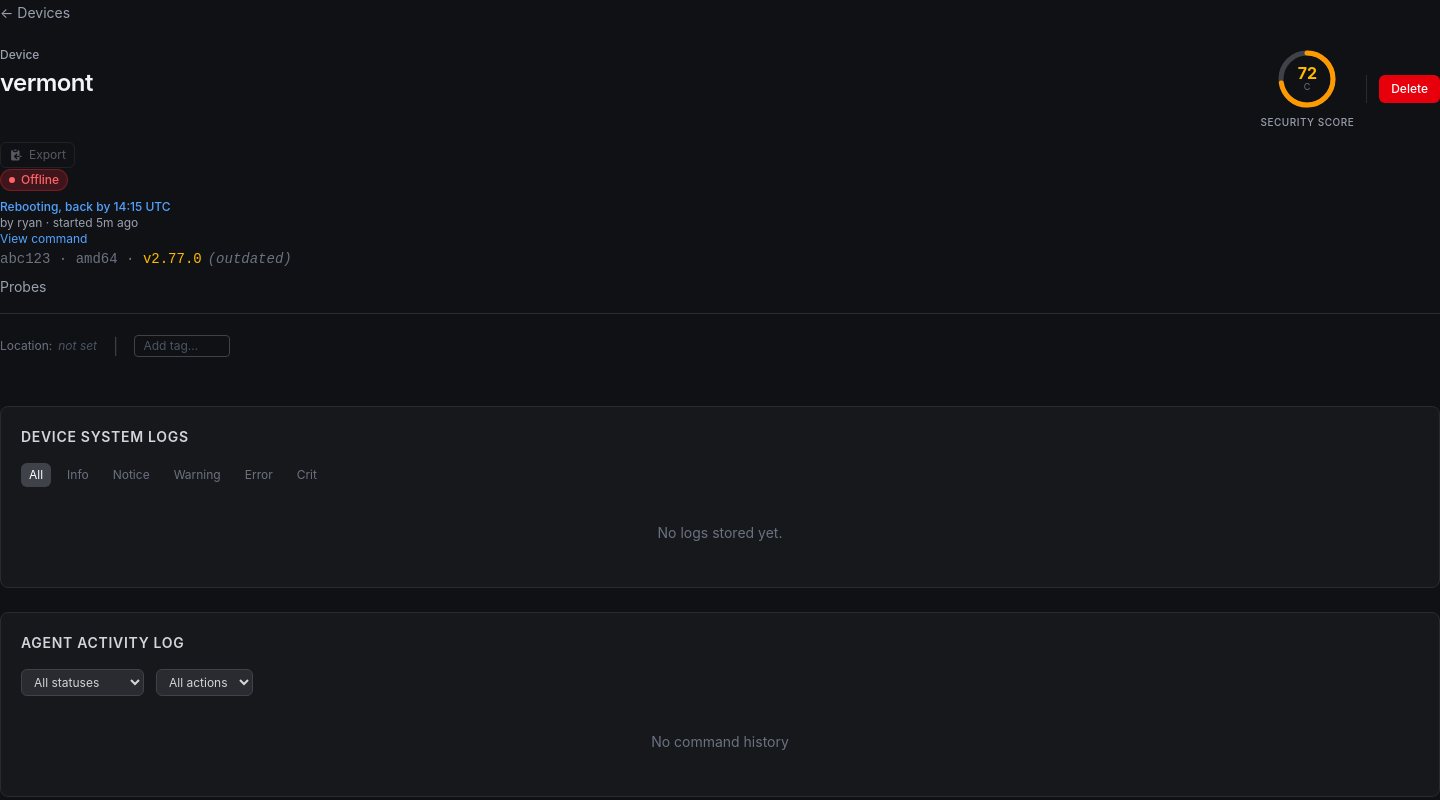
Test: [AC-042] header shows label, actor, start and link › opens the host command in a modal that has no Docker activity link
The image size is (1440, 800).
expect the heading "vermont" is shown: met, box [0,68,93,97]
Click the button "View command" at (44, 239), box [0,231,87,247]
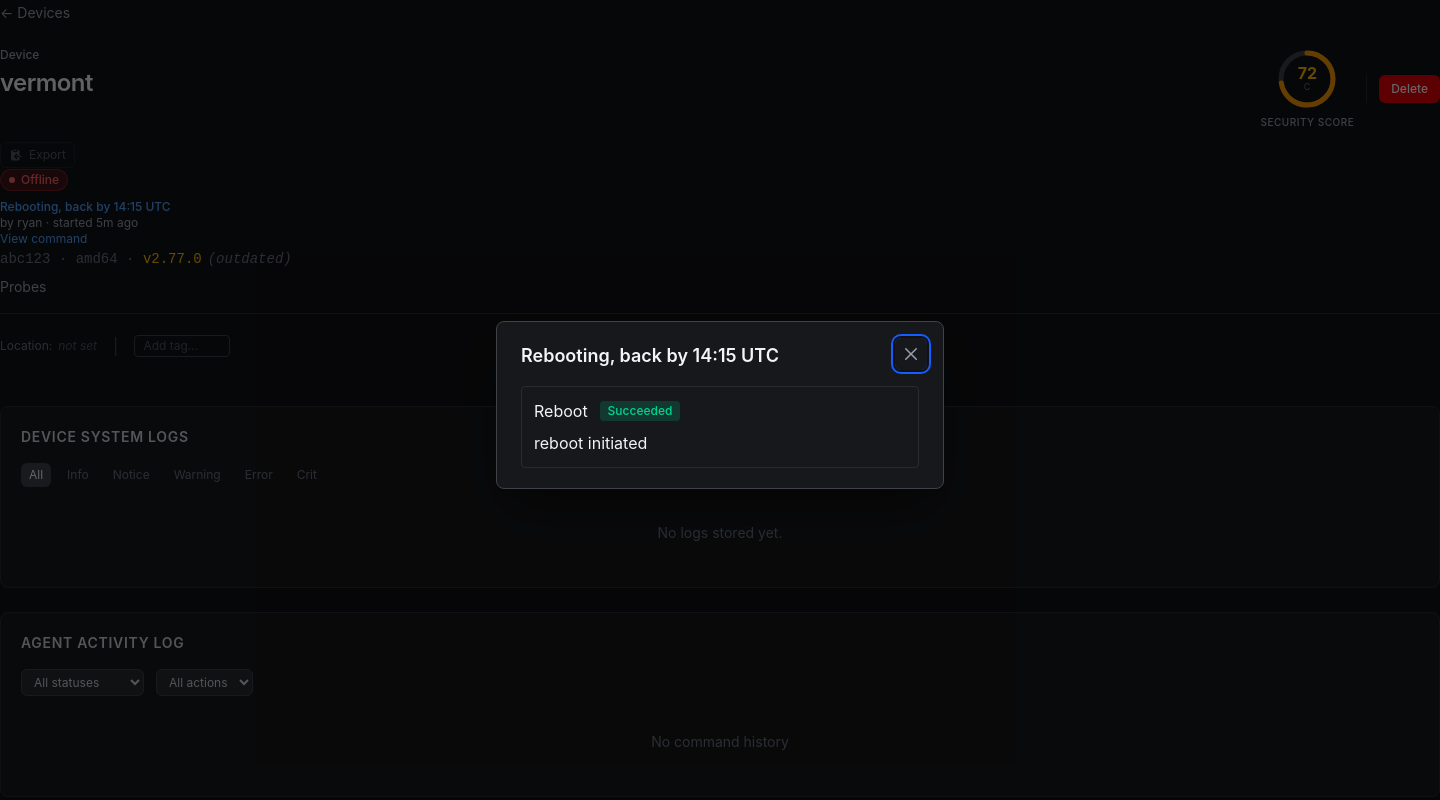
expect the text "reboot initiated" is shown: met, box [534,433,647,453]
